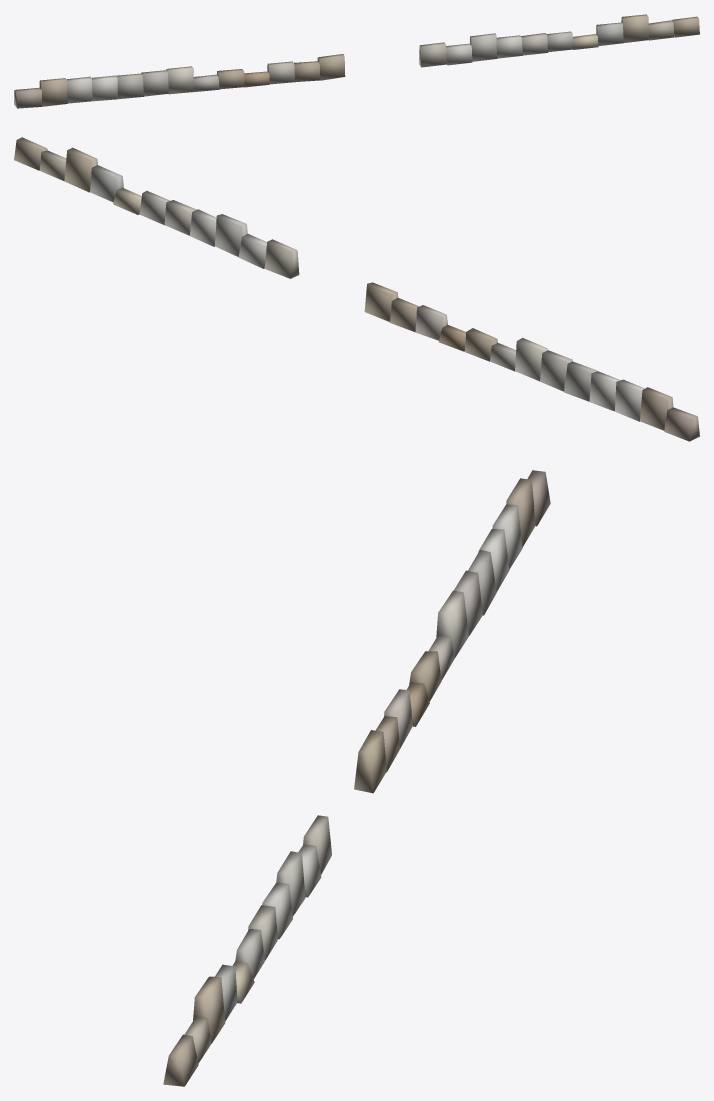
File: farm_13_23_far.glb
The picture shows the model from 3 angles, top to bottom: view 1: azimuth 30°, elevation 25°; view 2: azimuth 150°, elevation 25°; view 3: azimuth 270°, elevation 25°; orthographic projection. The views are drawn at different scales.
Parts seen in each view (by area): view 1: geometry_0; view 2: geometry_0; view 3: geometry_0.
Part boxes in pixels (x1,y1,x2,y2): geometry_0: (14,14,699,108); geometry_0: (14,137,699,441); geometry_0: (163,470,550,1086).
Bounding box in the file's own units: 40.85 × 1.88 × 11.54.
